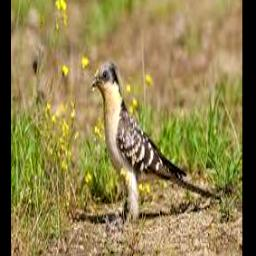Cuckoo: (91, 61, 220, 223)
